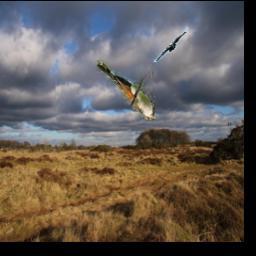Crow: (152, 26, 188, 62)
Cuckoo: (98, 61, 156, 120)
